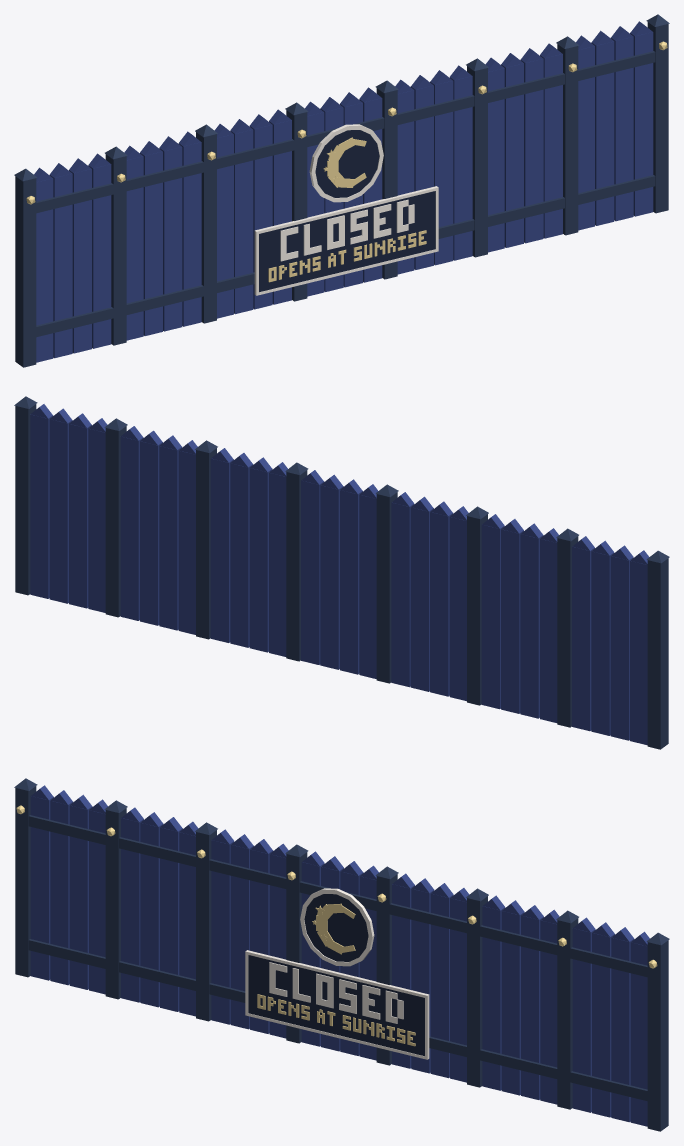
The model's file is CatCafe_Woods_NightFence.glb.
The picture shows the model from 3 angles, top to bottom: view 1: azimuth 30°, elevation 25°; view 2: azimuth 150°, elevation 25°; view 3: azimuth 330°, elevation 25°; orthographic projection.
Parts seen in each view (by area): view 1: CatCafe_Woods_NightFence, CatCafe_Woods_NightFence_Moon_Bulb; view 2: CatCafe_Woods_NightFence; view 3: CatCafe_Woods_NightFence, CatCafe_Woods_NightFence_Moon_Bulb.
Part boxes in pixels (x1,y1,x2,y2): CatCafe_Woods_NightFence: (14, 14, 669, 367); CatCafe_Woods_NightFence_Moon_Bulb: (26, 41, 667, 282); CatCafe_Woods_NightFence: (14, 396, 669, 749); CatCafe_Woods_NightFence: (14, 778, 669, 1131); CatCafe_Woods_NightFence_Moon_Bulb: (16, 805, 657, 1046).
Bounding box in the file's own units: 30.06 × 8.64 × 0.9251.
Materials: 1 (1 with a texture image).
